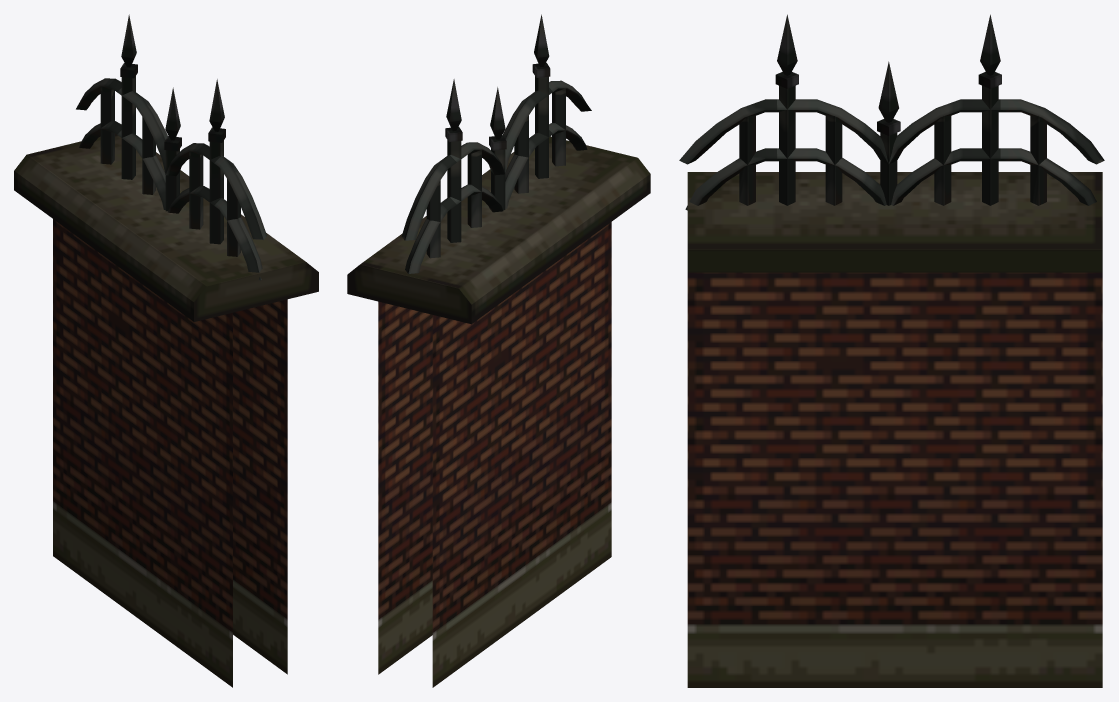
File: EnvBdgMD_Forest_MothersGarden_A_Wall_B.FBX
The picture shows the model from 3 angles, left to right: view 1: azimuth 30°, elevation 25°; view 2: azimuth 150°, elevation 25°; view 3: azimuth 270°, elevation 25°; orthographic projection. The views are drawn at different scales.
Parts seen in each view (by area): view 1: EnvBdgMD_Forest_MothersGarden_A_Wall_B; view 2: EnvBdgMD_Forest_MothersGarden_A_Wall_B; view 3: EnvBdgMD_Forest_MothersGarden_A_Wall_B.
Boxes of the visible parts, <box> form: EnvBdgMD_Forest_MothersGarden_A_Wall_B: <box>14,14,318,687</box>; EnvBdgMD_Forest_MothersGarden_A_Wall_B: <box>347,14,650,687</box>; EnvBdgMD_Forest_MothersGarden_A_Wall_B: <box>679,14,1104,687</box>.
Bounding box in the file's own units: 80 × 350 × 205.
Materials: 1 (1 with a texture image).
